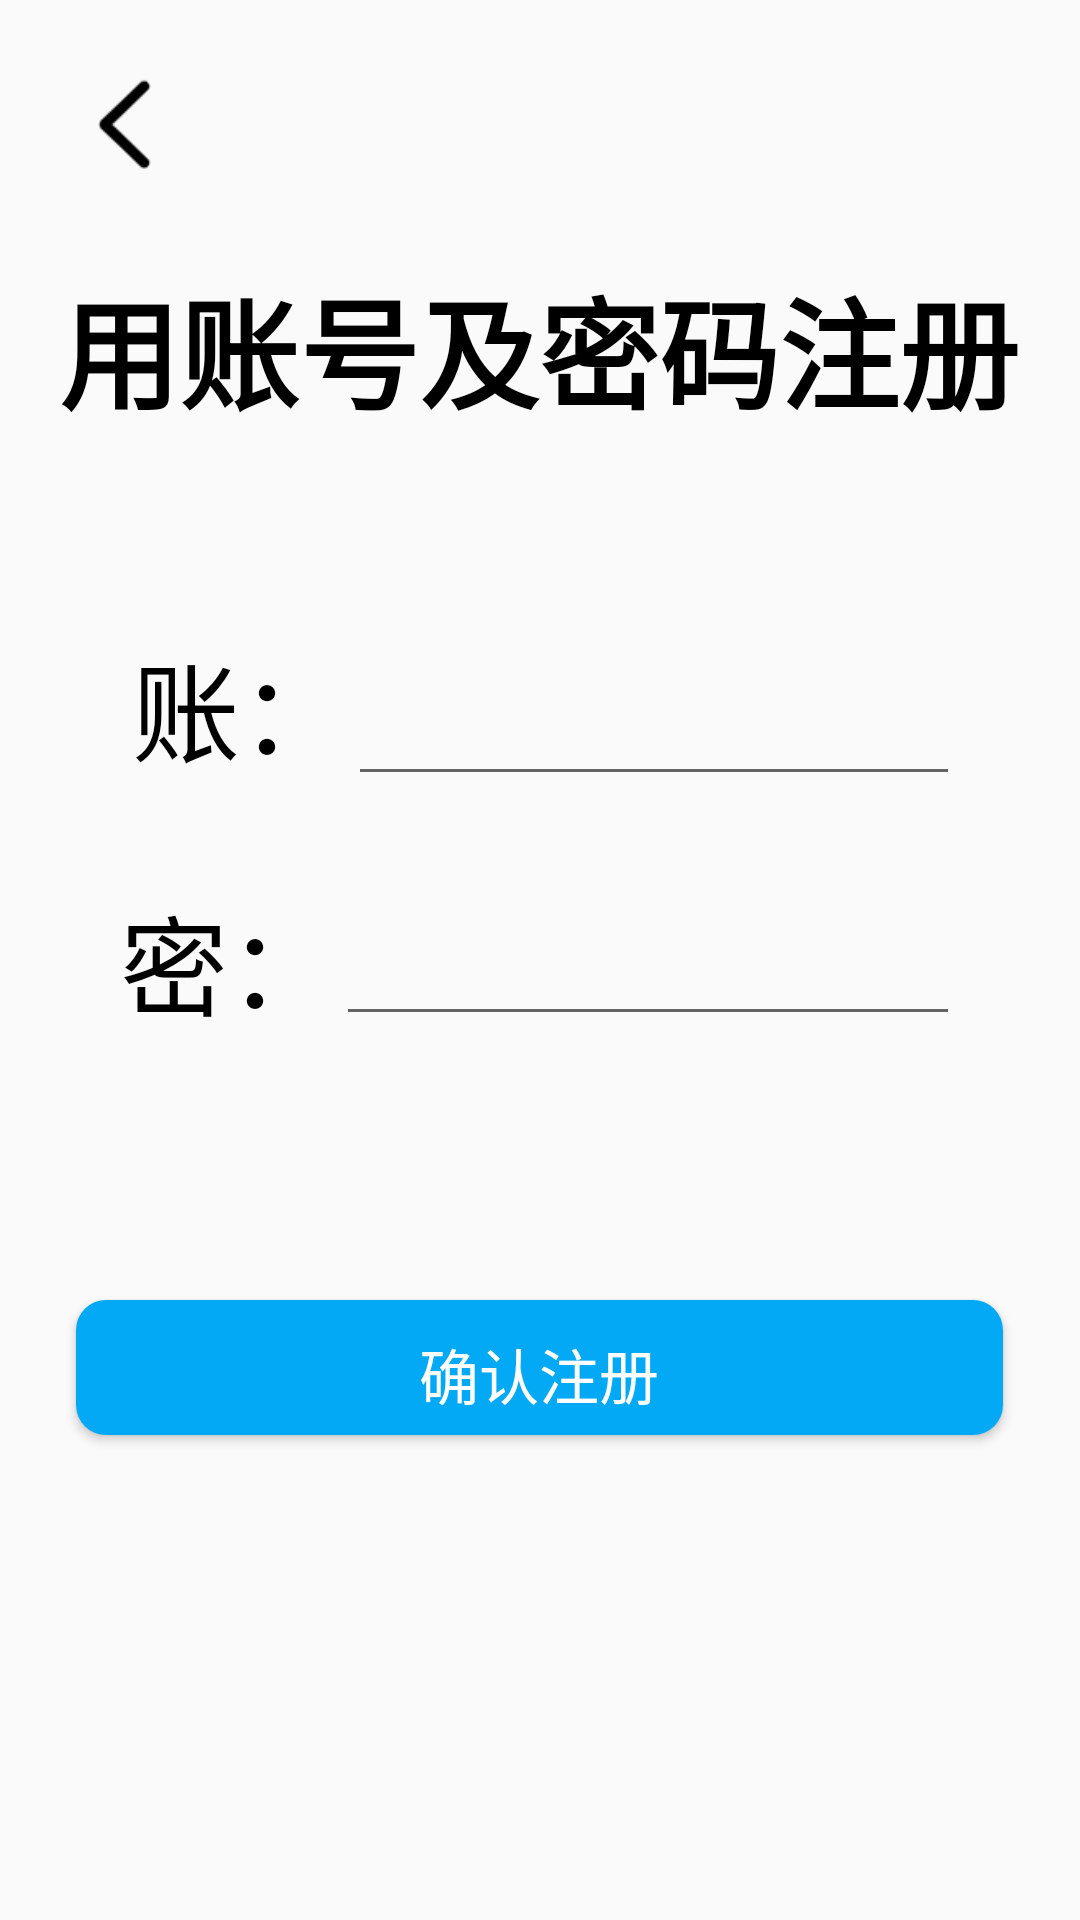

Where to tap for icons on this 1080px x 1920px app screen, as point (x, y):
back: point (124, 124)
